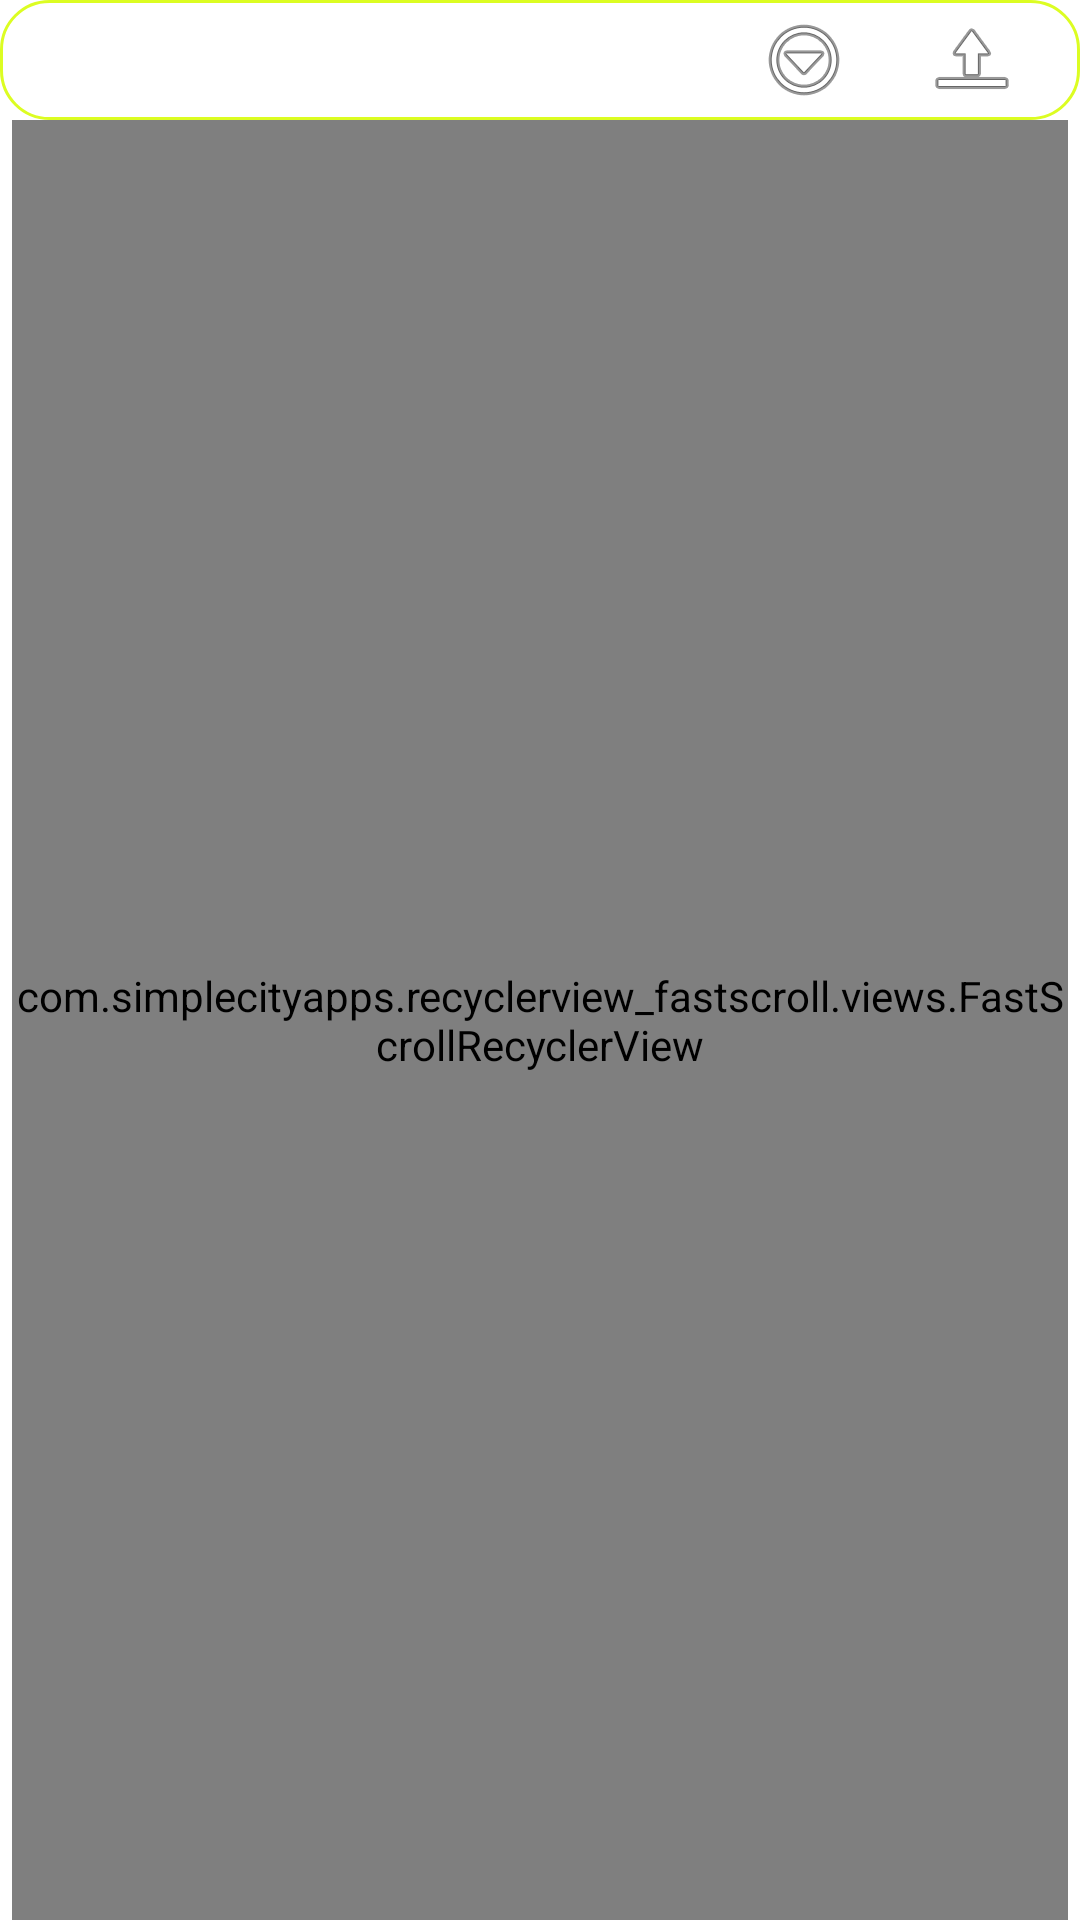

Locate icon controls on the screen. Image size 1080×1920, boxes as (x1, y1, x2, y2).
upload: (935, 28, 1009, 89)
